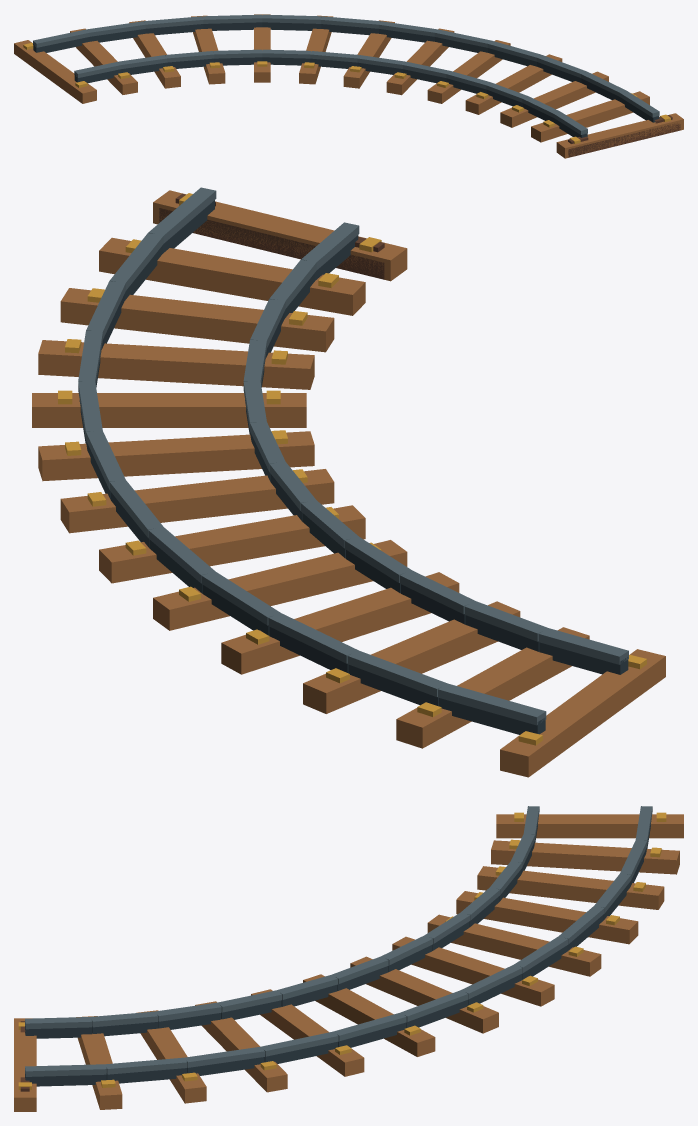
Rendered from rail-left.glb.
3 renders of one model, top to bottom at view 1: azimuth 30°, elevation 25°; view 2: azimuth 150°, elevation 25°; view 3: azimuth 270°, elevation 25°, orthographic. The views are drawn at different scales.
Visible parts, largest first — view 1: rail-left; view 2: rail-left; view 3: rail-left.
Boxes of the visible parts, x1,y1,x2,y2 form: rail-left: (14,14,683,158); rail-left: (32,187,665,777); rail-left: (14,806,683,1111).
Bounding box in the file's own units: 5.93 × 0.2655 × 5.93.
